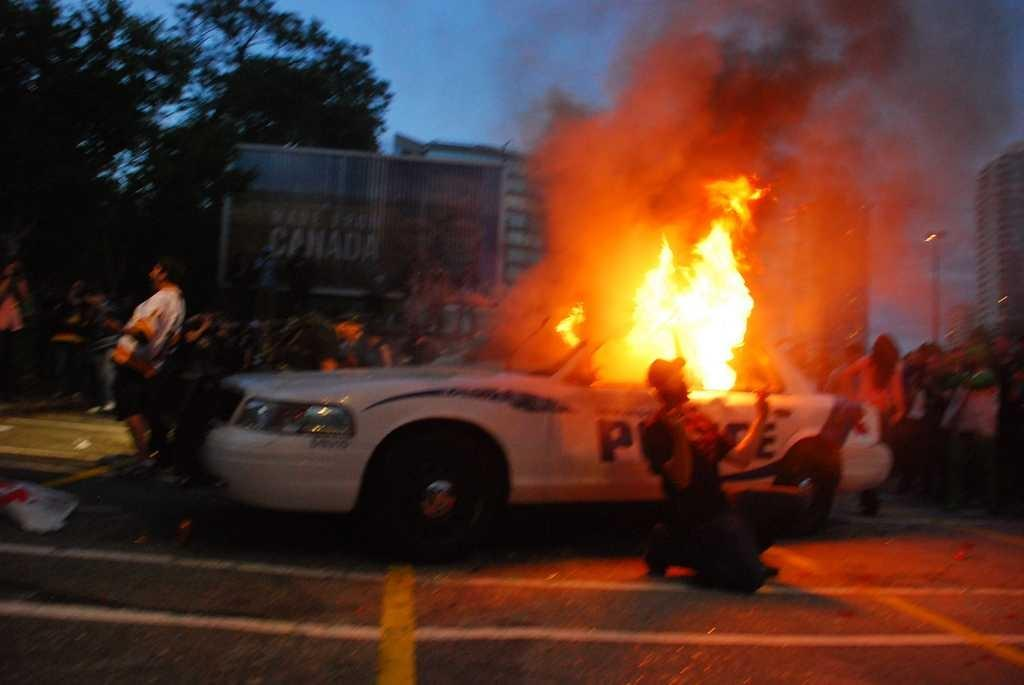fire: (642, 275, 740, 365)
smoke: (558, 110, 698, 212)
